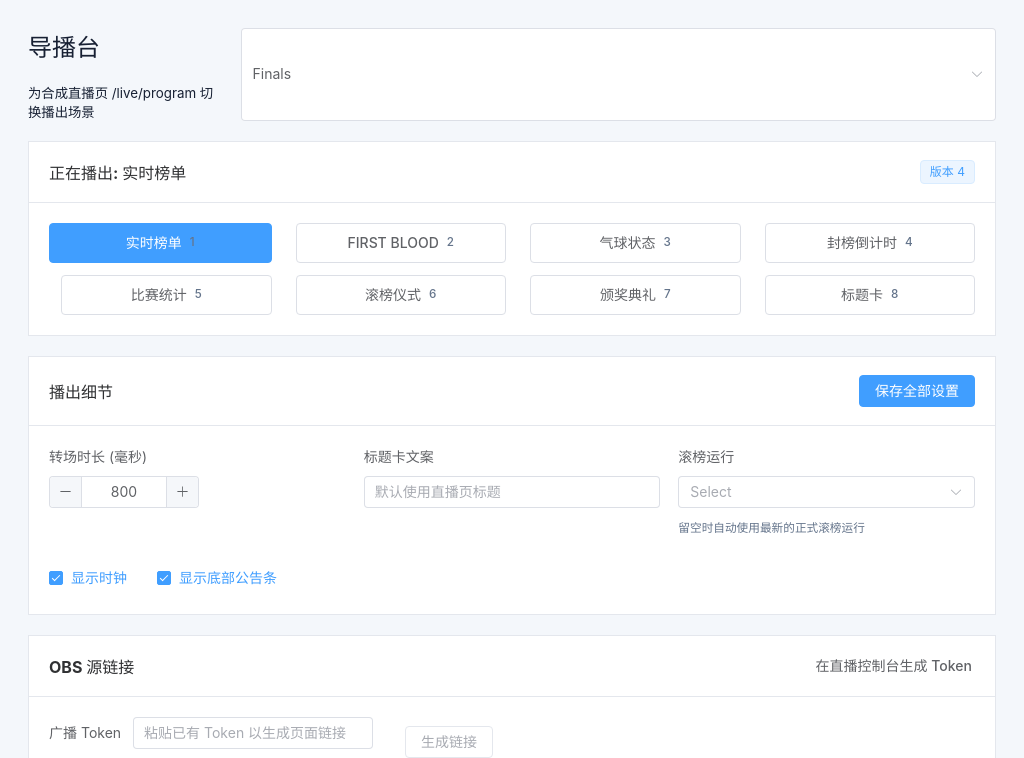
live program control view › recovers from a version conflict by reloading the server state
Click the button "颁奖典礼 7": (635, 295) [530,275,740,315]
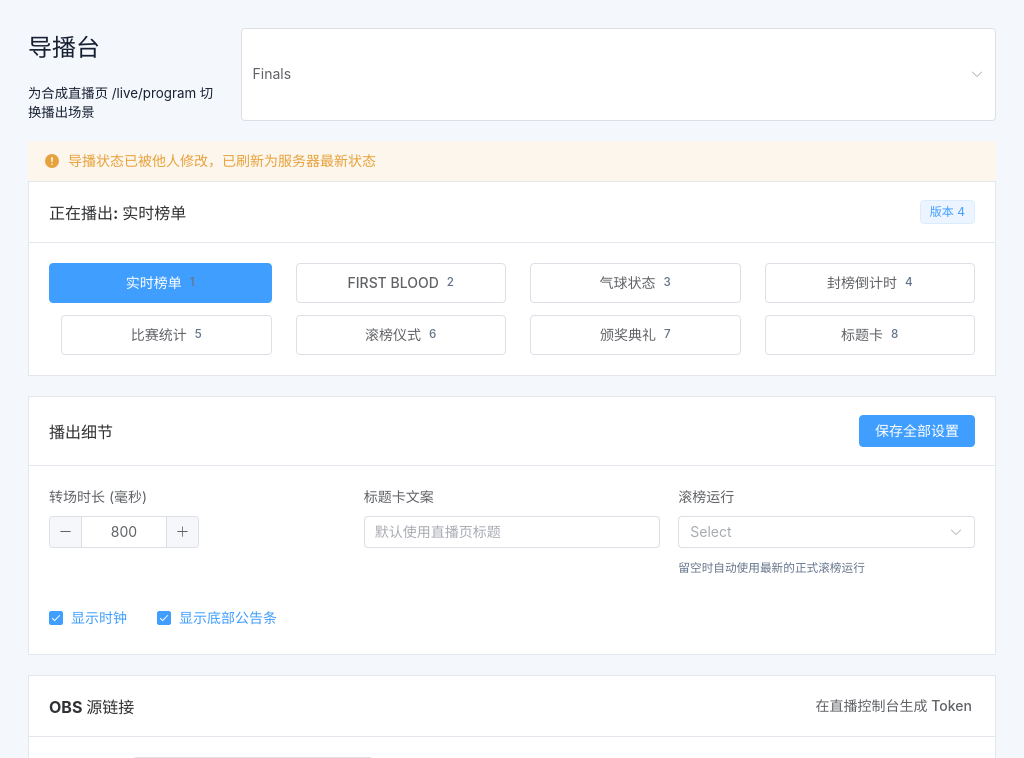
Expected: the text "已被他人修改" is shown, [68,152,376,169]
